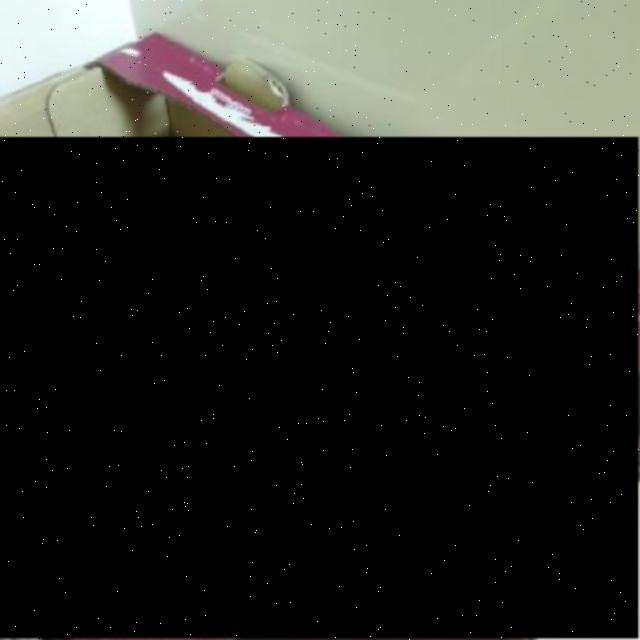Sweet_Potato: (0, 137, 638, 638)
